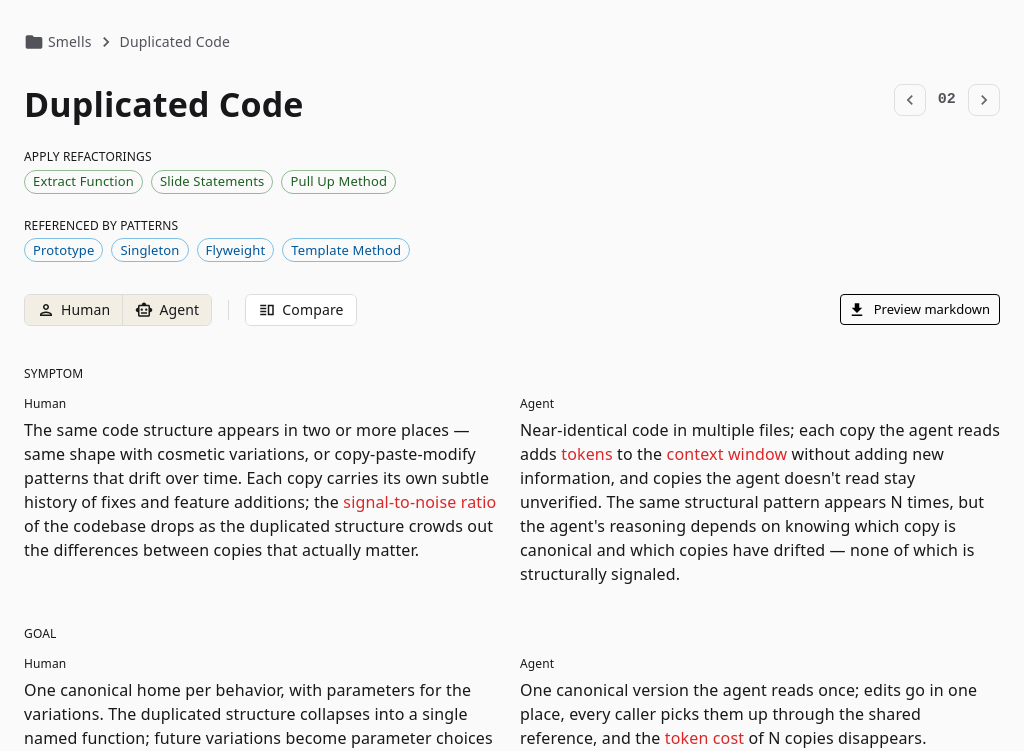
Test case: user clicks a glossary term inside the Duplicated Code compare view › opens the context-window popover with its definition on click
Click the button with aria-label "Definition of context window" at (727, 454), box [666, 443, 787, 465]
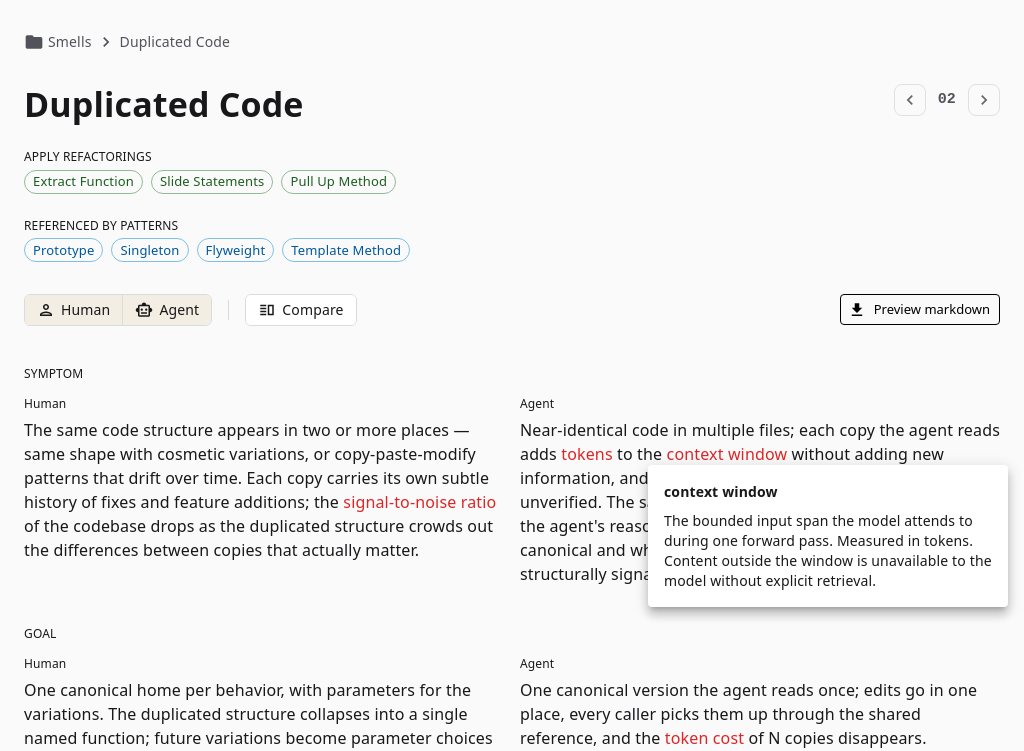
Expected: the dialog named "Definition of context window" shows "bounded input span", [664, 511, 992, 590]
